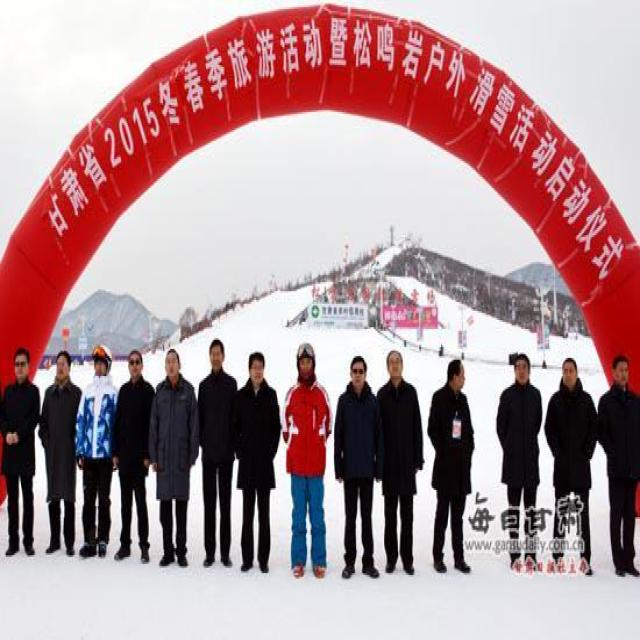non-fight: (226, 342, 283, 573), (279, 342, 334, 580), (371, 344, 426, 578), (544, 352, 600, 576), (145, 343, 199, 570), (493, 349, 547, 571), (426, 354, 479, 575), (71, 347, 119, 559), (0, 343, 44, 557)
